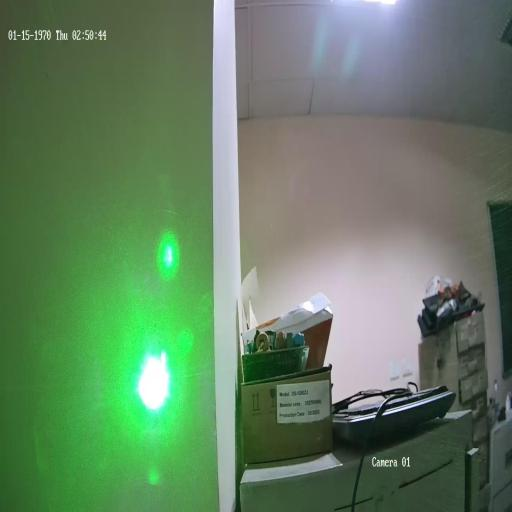laser: (123, 340, 184, 417)
